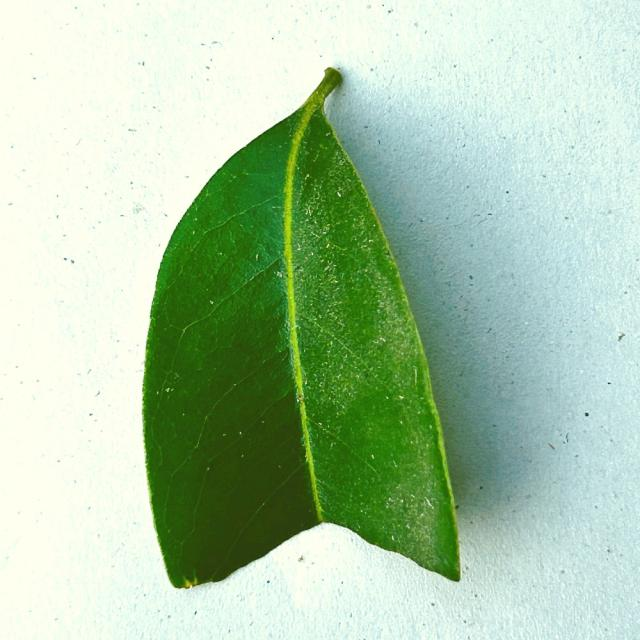Deficiency Leaf: (241, 525, 475, 620)
Lychee: (143, 68, 463, 591)
